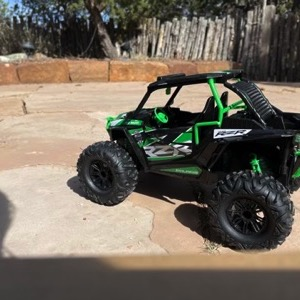polaris: (77, 71, 298, 250)
